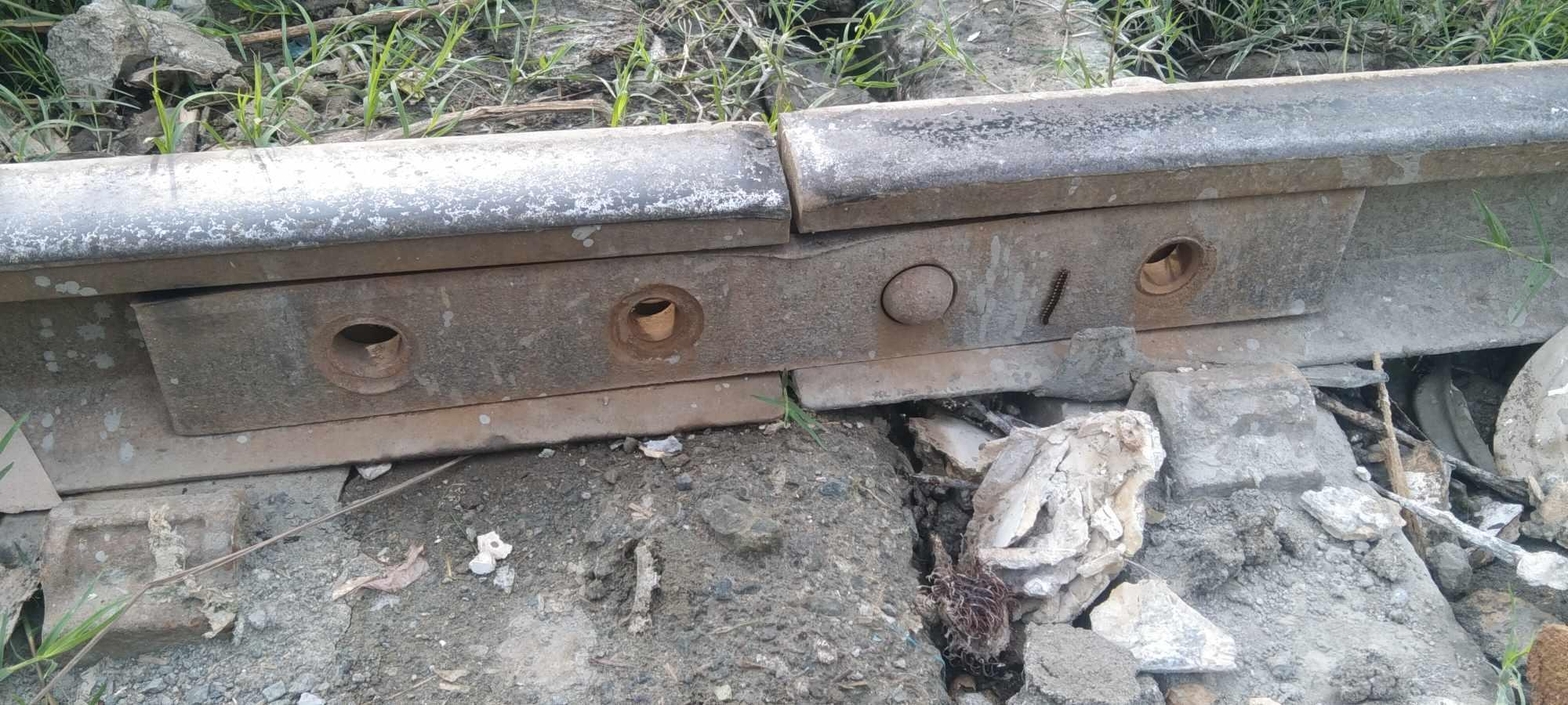railway-gap: (681, 80, 901, 271)
